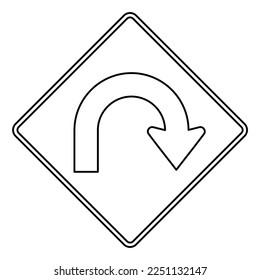Right Hair Pin Bend: (21, 14, 249, 246)
